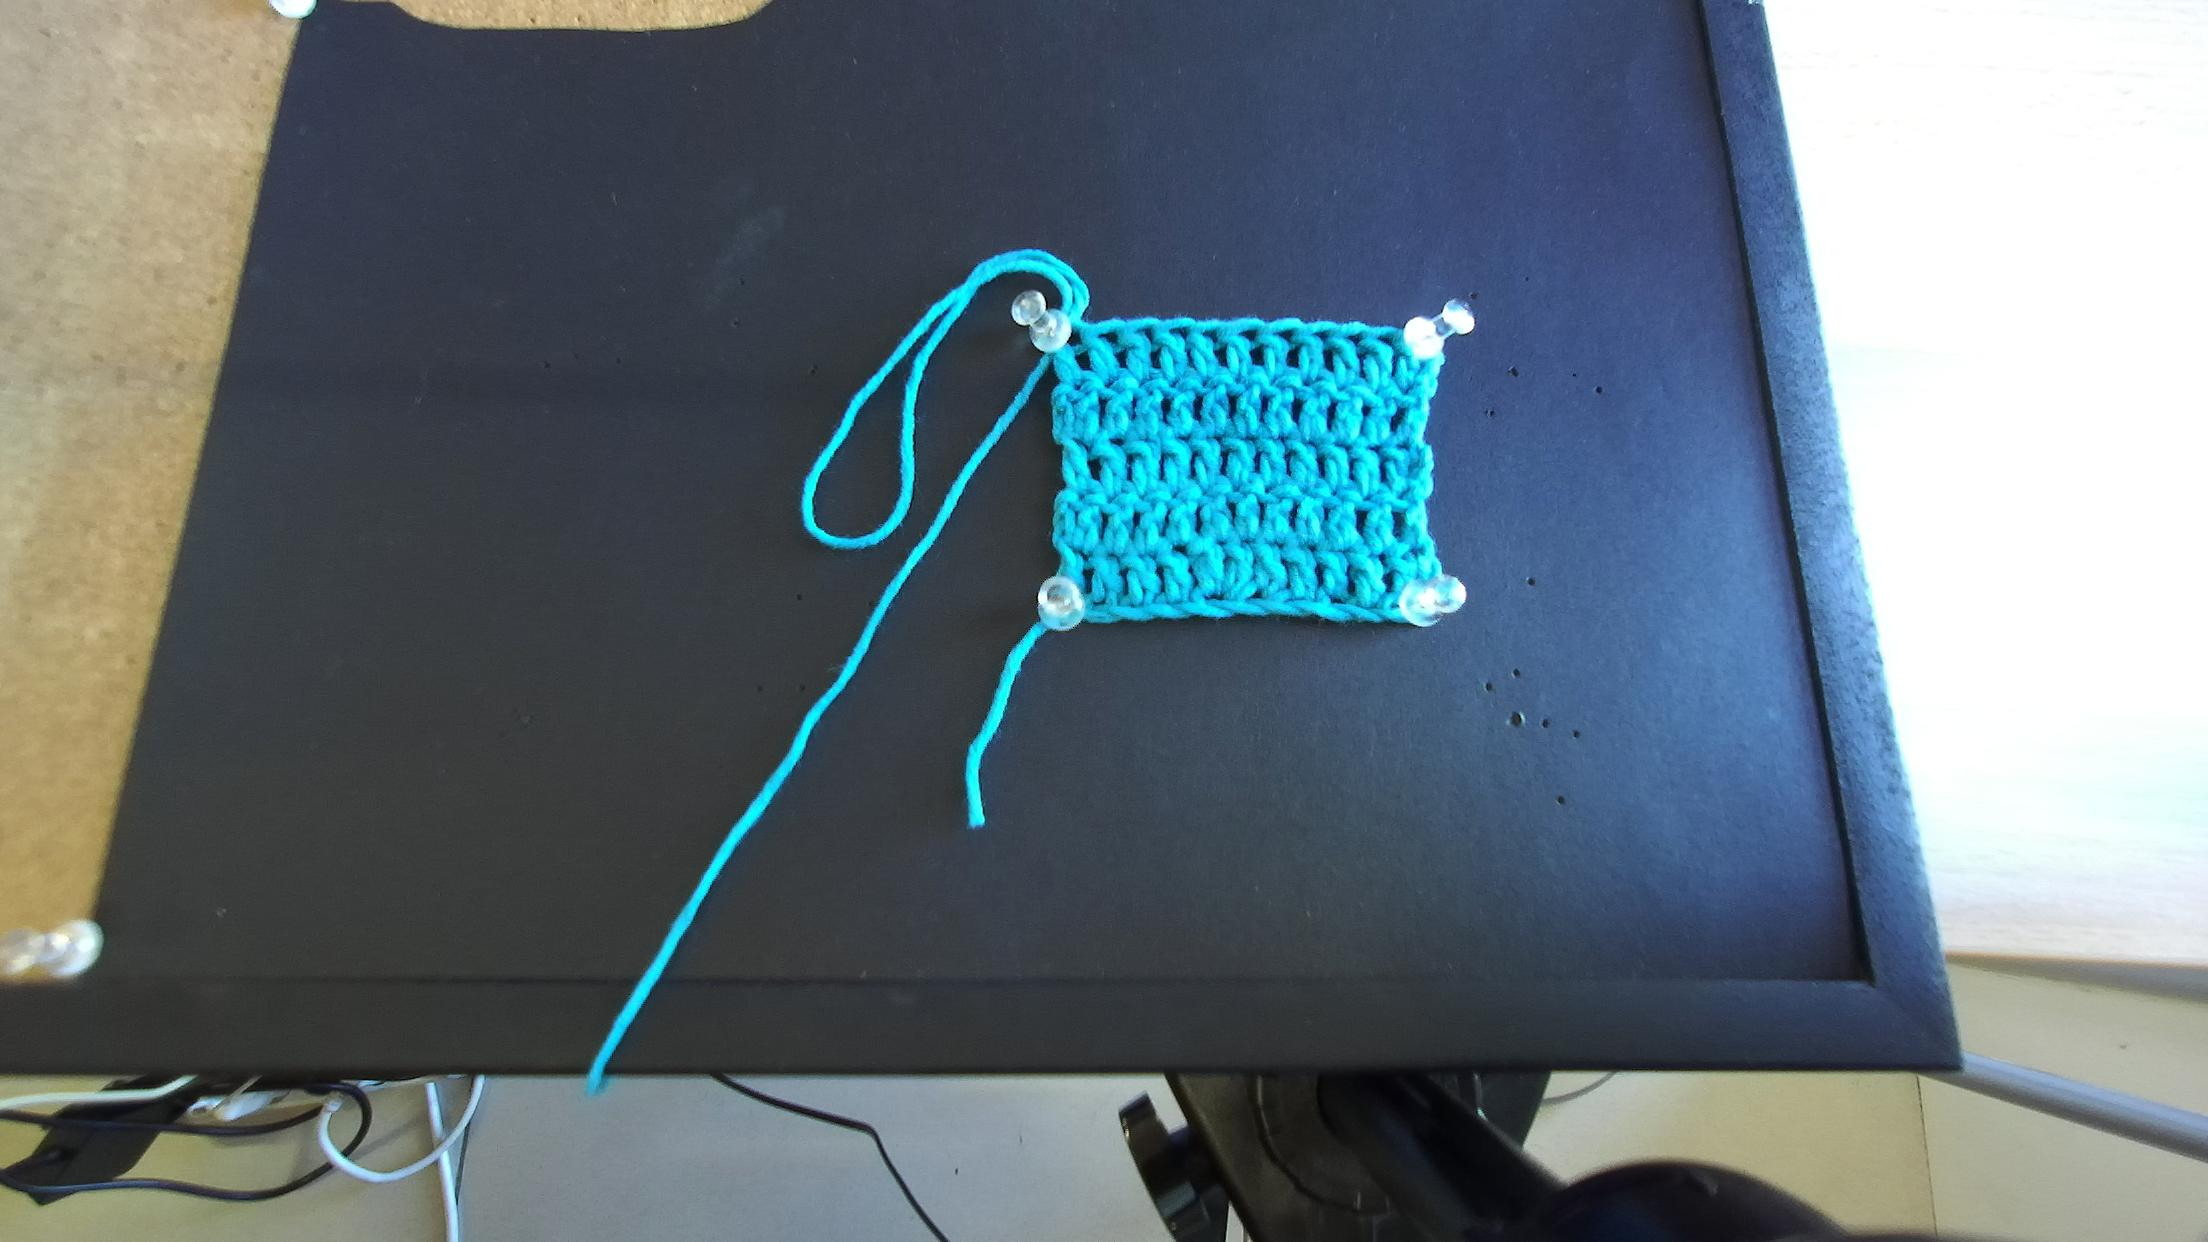hole: (1136, 326, 1154, 346), (1171, 326, 1192, 343), (1275, 328, 1295, 344), (1098, 331, 1118, 346), (1239, 328, 1259, 343), (1344, 332, 1363, 347), (1068, 329, 1083, 346), (1203, 328, 1219, 343), (1377, 335, 1394, 350), (1312, 331, 1330, 344)
swatch: (1051, 300, 1476, 629)
